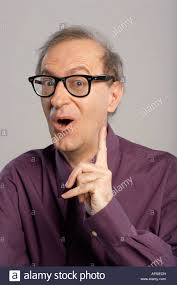Glasses: (24, 69, 114, 101)
